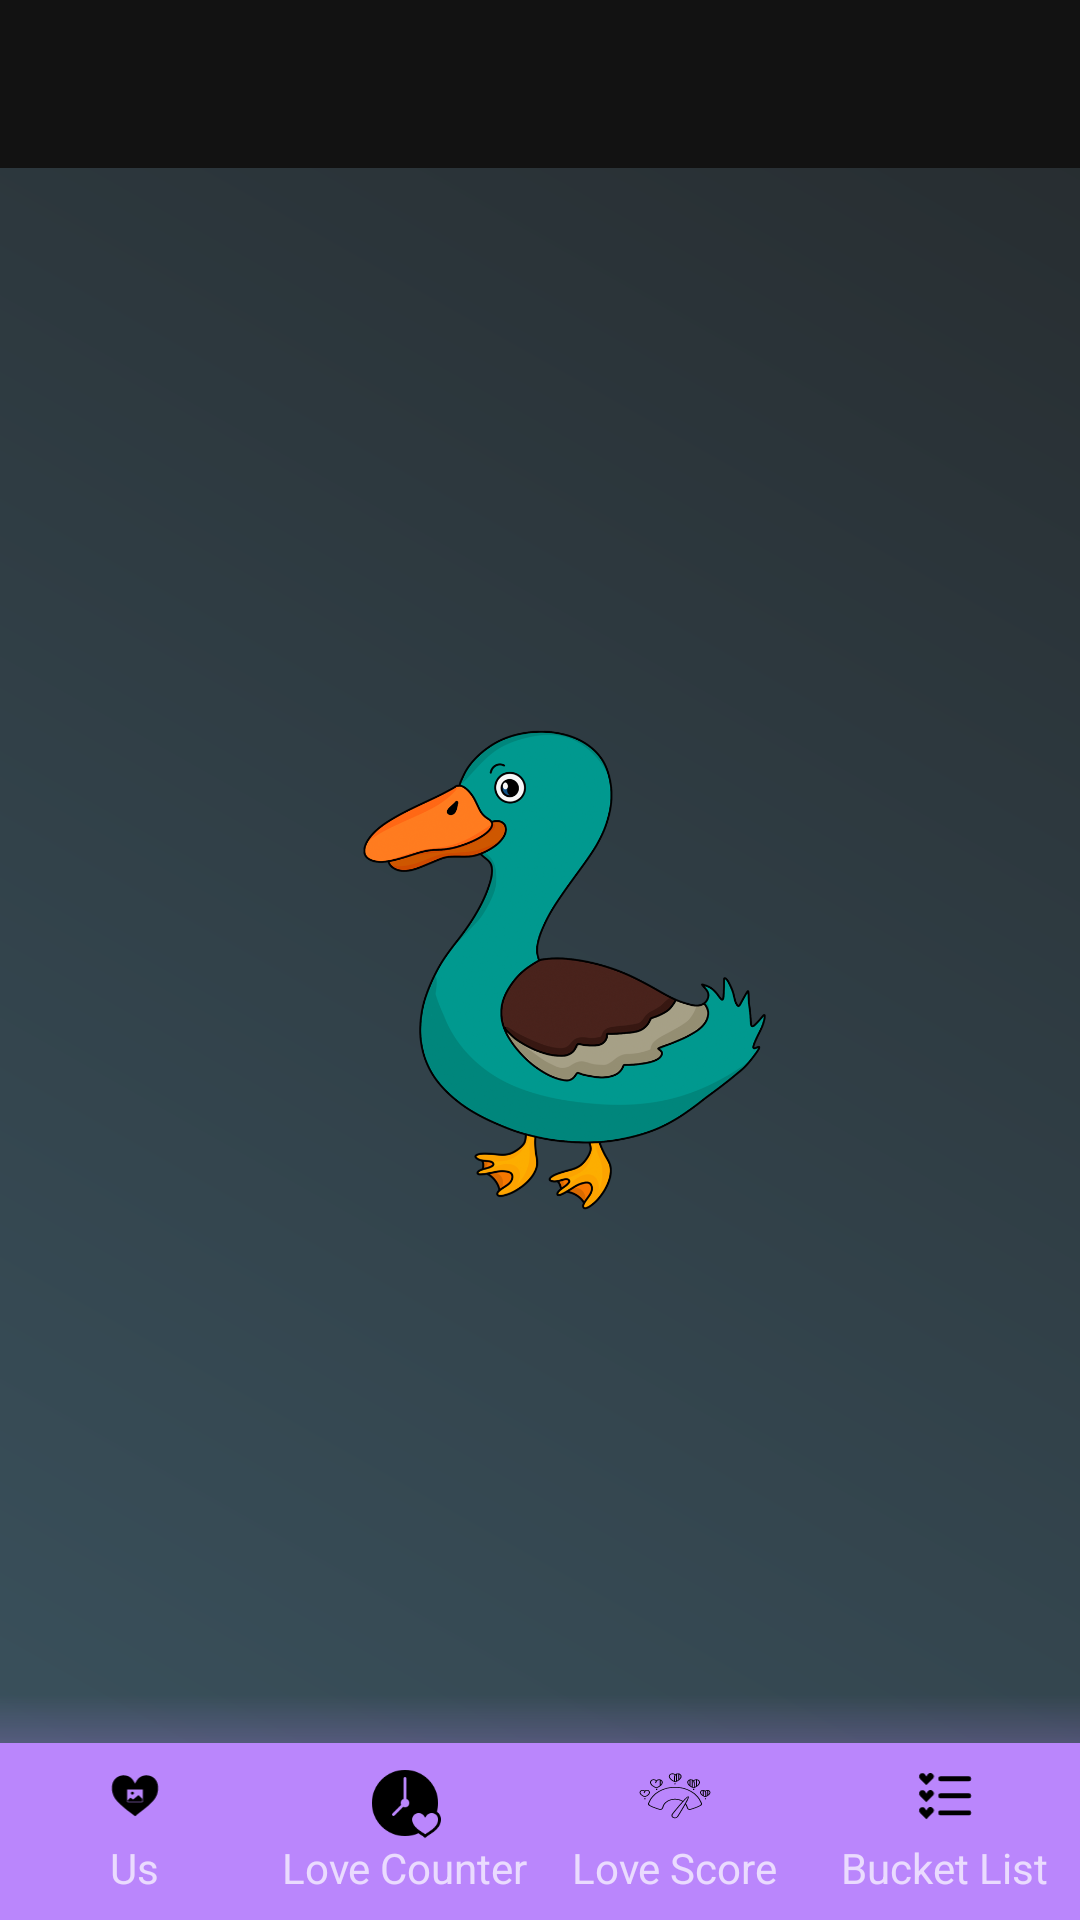

Locate icon controls on the screen. Image size 1080 × 1920, boxes as bbox=(x1, y1, x2, y2).
love images: bbox=(111, 1775, 159, 1816)
love meter: bbox=(639, 1773, 711, 1819)
timer: bbox=(372, 1770, 441, 1838)
